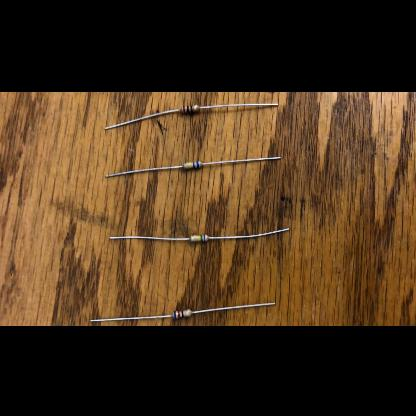resistor: (172, 308, 192, 318), (183, 160, 202, 168), (181, 104, 199, 112), (192, 233, 206, 240)
wire: (104, 107, 180, 128), (209, 226, 289, 238), (106, 164, 182, 176), (192, 302, 276, 312), (202, 156, 280, 165), (90, 314, 172, 320), (200, 102, 280, 108), (110, 234, 190, 240)
